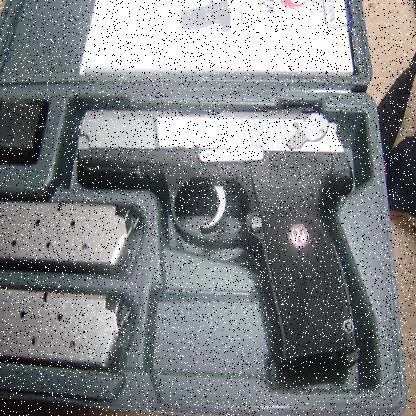pistol: (77, 101, 362, 369)
